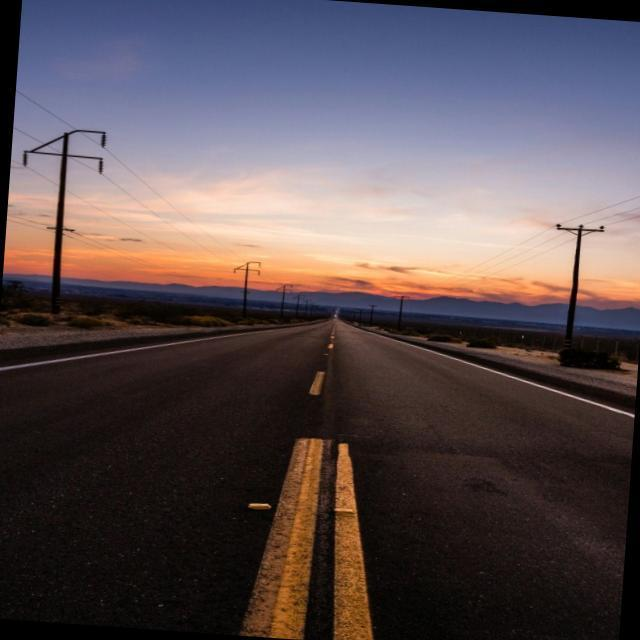off: (160, 116, 460, 328)
